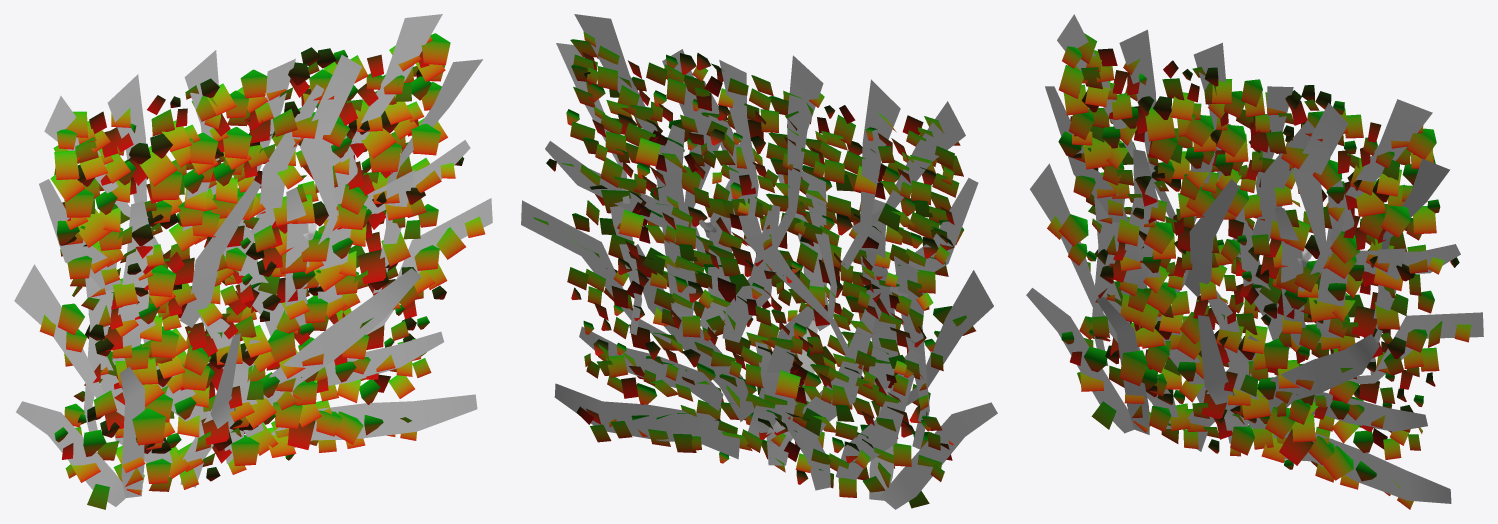
Rendered from Var2_LOD3.fbx.
3 renders of one model, left to right at view 1: azimuth 30°, elevation 25°; view 2: azimuth 150°, elevation 25°; view 3: azimuth 330°, elevation 25°, orthographic. The views are drawn at different scales.
Visible parts, largest first — view 1: _e086_Var2_LOD3; view 2: _e086_Var2_LOD3; view 3: _e086_Var2_LOD3.
Boxes of the visible parts, x1,y1,x2,y2 form: _e086_Var2_LOD3: (14,14,492,509); _e086_Var2_LOD3: (521,14,997,509); _e086_Var2_LOD3: (1026,14,1483,509).
Size of the model in its own units: 123 by 108 by 12.14.
